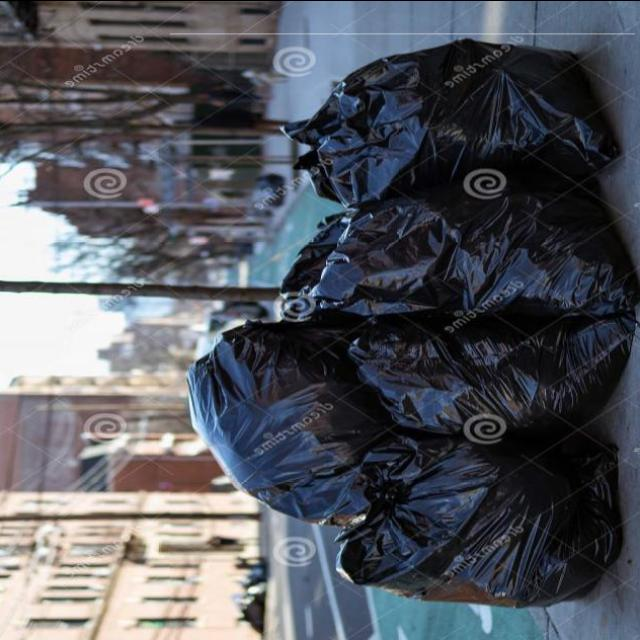plastik: (285, 38, 618, 204), (284, 167, 639, 317), (342, 436, 620, 607), (189, 319, 393, 526), (348, 313, 635, 433)
